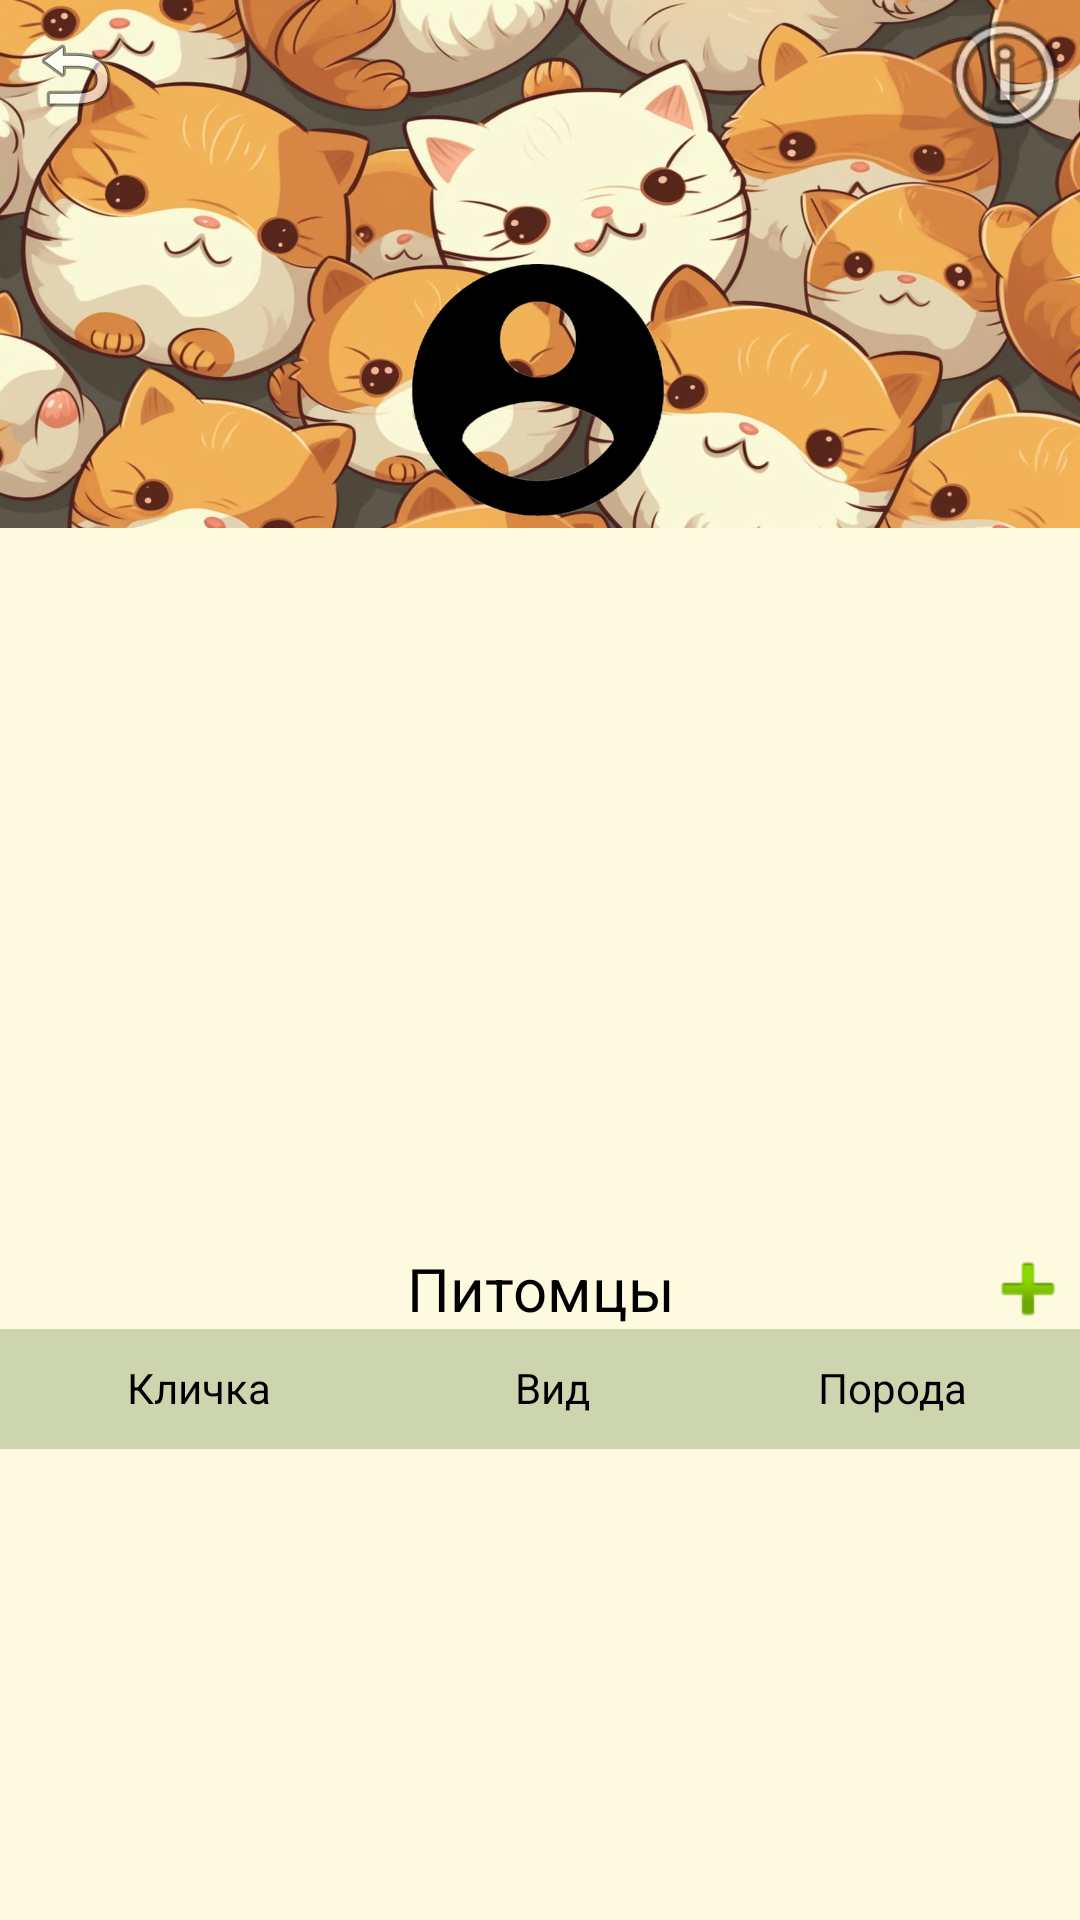

Screen size 1080*1920. Icon name, then its center in pixels as point (x, y):
add: point (1028, 1289)
info details: point (1005, 75)
